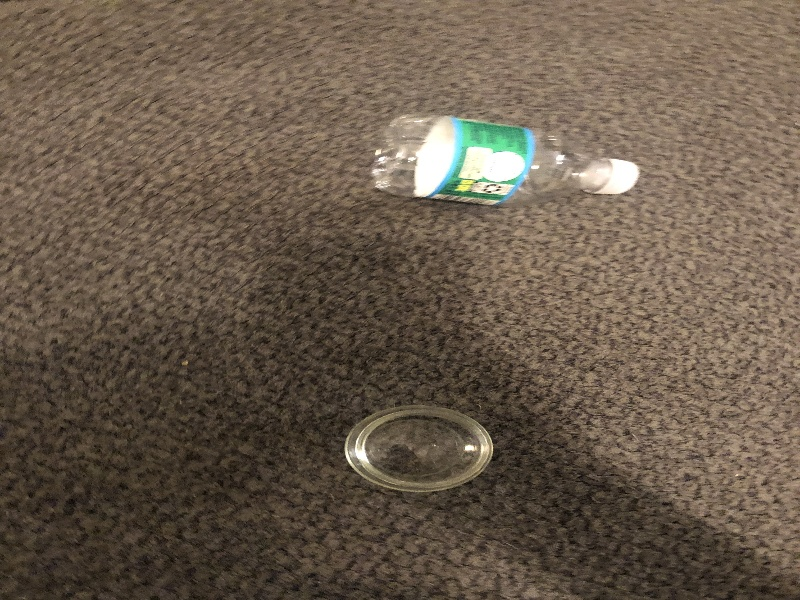glass: (342, 397, 501, 502)
plastic: (373, 106, 645, 215)
